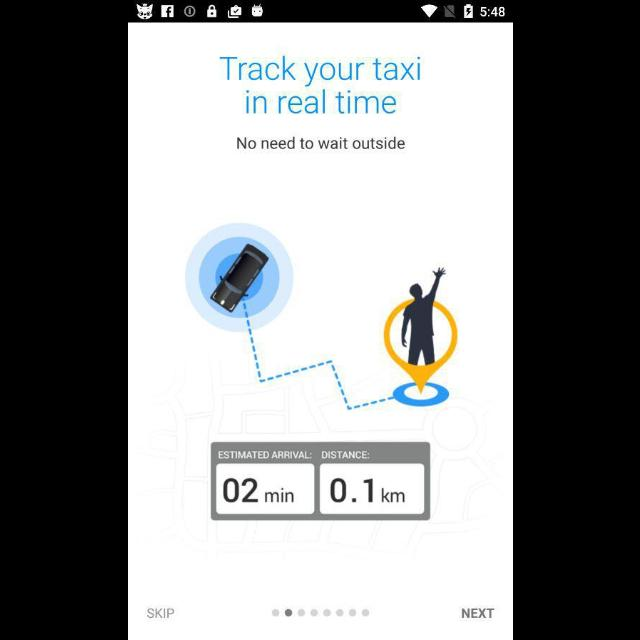image: (184, 222, 458, 412), (210, 441, 430, 521)
pageindicator: (270, 608, 370, 618)
text: (218, 56, 420, 114), (236, 137, 404, 151), (460, 608, 494, 618), (147, 608, 175, 620)
uppertaskbar: (128, 1, 512, 23)
